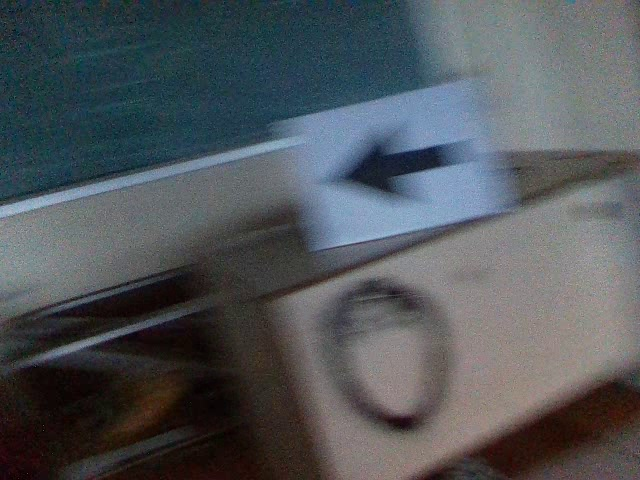Left: (321, 124, 462, 202)
